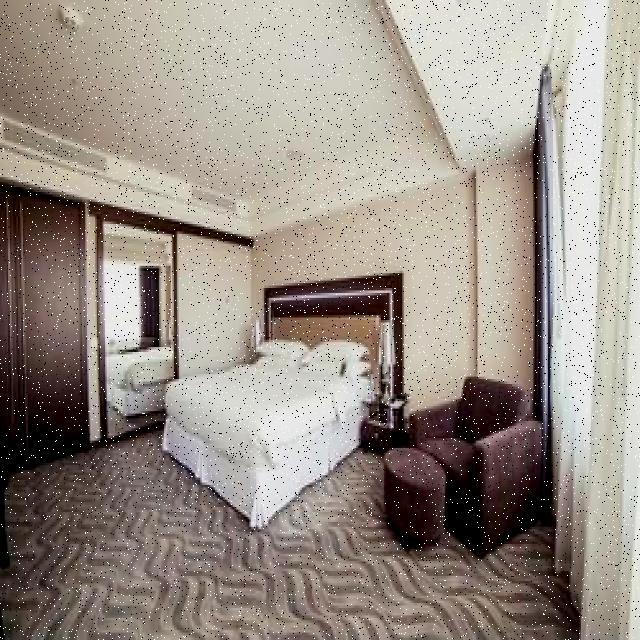bed: (164, 330, 378, 508)
